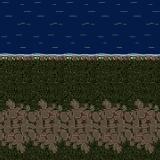Interaction: (0, 44, 160, 72)
Slow: (0, 0, 160, 53)
